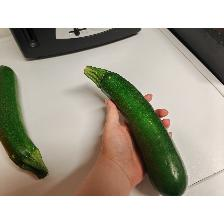Zucchini: (82, 64, 190, 196), (0, 64, 50, 182)
